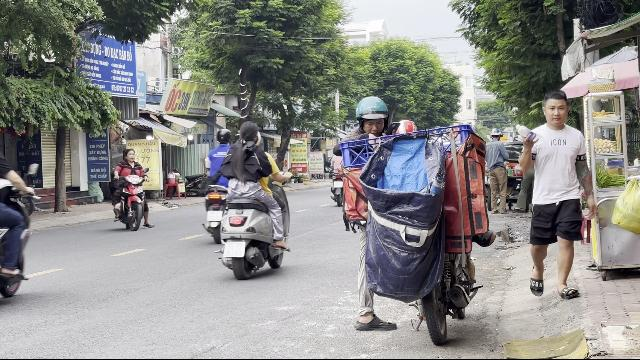helmet: (214, 127, 232, 144)
licenseplate: (223, 242, 245, 258), (208, 211, 222, 221)
motorcyclist: (217, 120, 291, 280), (200, 124, 234, 242), (109, 146, 151, 230)
nohelmet: (238, 120, 260, 144), (122, 146, 136, 162)
